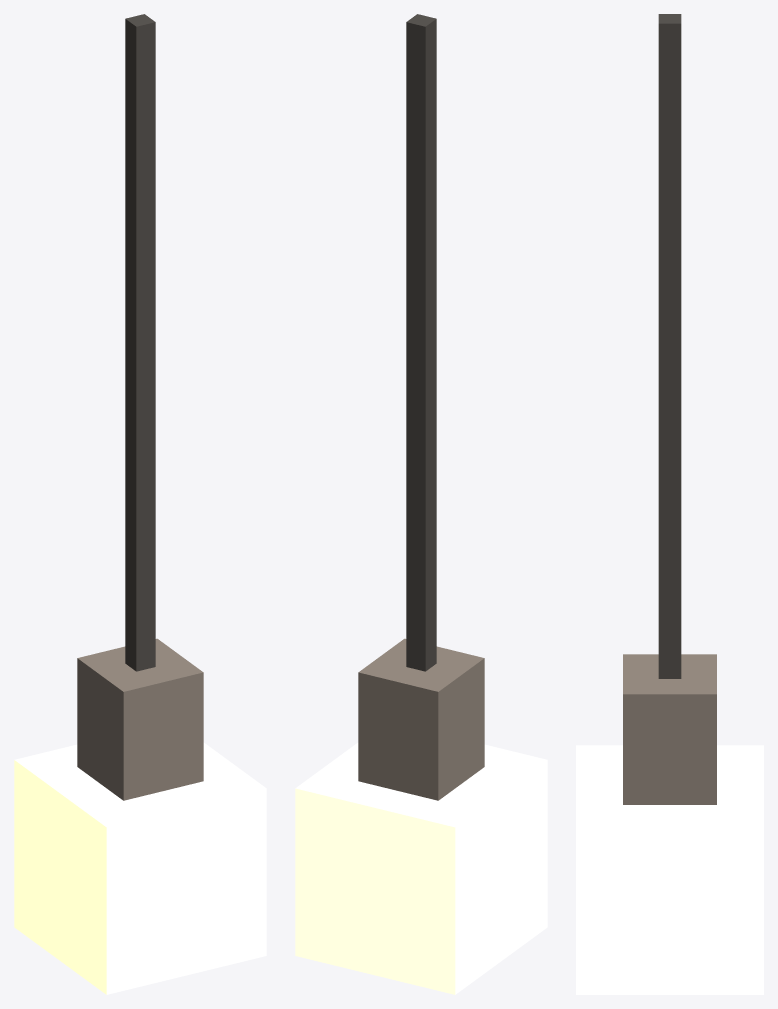
Rendered from bulbo_5cc96b1375.gltf.
3 renders of one model, left to right at view 1: azimuth 30°, elevation 25°; view 2: azimuth 150°, elevation 25°; view 3: azimuth 270°, elevation 25°, orthographic.
Visible parts, largest first — view 1: bulbo_5cc96b1375; view 2: bulbo_5cc96b1375; view 3: bulbo_5cc96b1375.
Boxes of the visible parts, x1,y1,x2,y2 form: bulbo_5cc96b1375: (14, 14, 266, 994); bulbo_5cc96b1375: (295, 14, 547, 994); bulbo_5cc96b1375: (576, 14, 763, 994).
Size of the model in its own units: 0.1 by 0.55 by 0.1.
